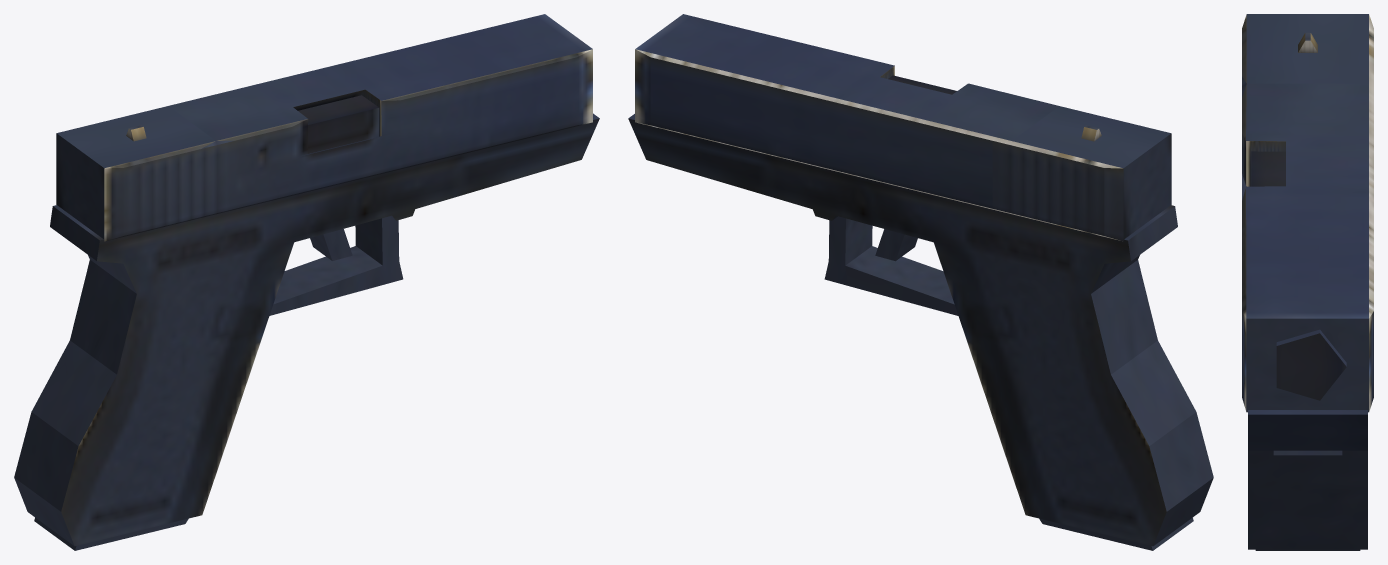
Rendered from weapon_pistol.glb.
3 views of the same model, side by side, from view 1: azimuth 30°, elevation 25°; view 2: azimuth 150°, elevation 25°; view 3: azimuth 270°, elevation 25° (orthographic). The views are drawn at different scales.
Parts seen in each view (by area): view 1: grip_Plane, slide_Cube.001, trigger_guard_Plane.001, magazine_Plane.002; view 2: grip_Plane, slide_Cube.001, trigger_guard_Plane.001, magazine_Plane.002; view 3: slide_Cube.001, grip_Plane, barrel_Cylinder, trigger_guard_Plane.001, magazine_Plane.002.
Boxes of the visible parts, left/top/right/bottom form: grip_Plane: left=14, top=113, right=599, bottom=546; slide_Cube.001: left=56, top=14, right=592, bottom=241; trigger_guard_Plane.001: left=269, top=216, right=403, bottom=315; magazine_Plane.002: left=34, top=517, right=188, bottom=550; grip_Plane: left=628, top=114, right=1213, bottom=546; slide_Cube.001: left=635, top=14, right=1171, bottom=241; trigger_guard_Plane.001: left=824, top=216, right=958, bottom=315; magazine_Plane.002: left=1039, top=517, right=1193, bottom=550; slide_Cube.001: left=1242, top=14, right=1373, bottom=412; grip_Plane: left=1248, top=410, right=1367, bottom=549; barrel_Cylinder: left=1276, top=329, right=1346, bottom=400; trigger_guard_Plane.001: left=1273, top=450, right=1342, bottom=455; magazine_Plane.002: left=1255, top=549, right=1360, bottom=550.
Size of the model in its own units: 4.1 by 2.82 by 0.6784.
1 material, 1 textured.
